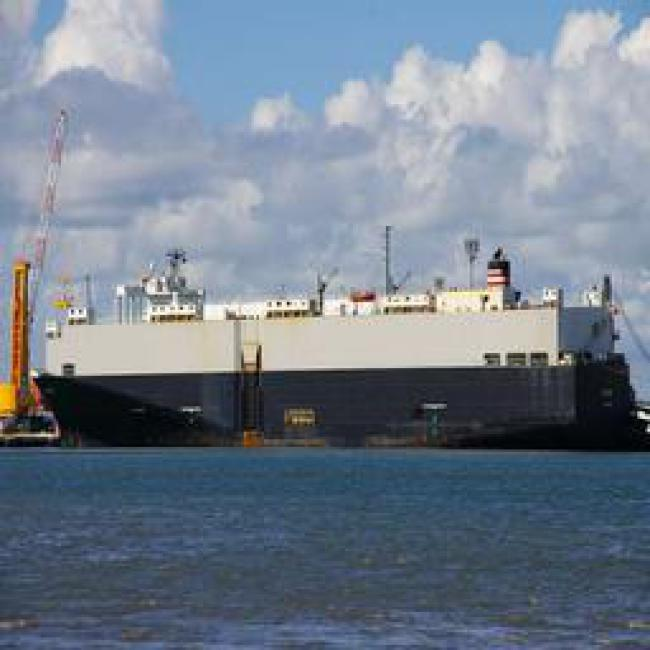Ship: (35, 291, 650, 456)
